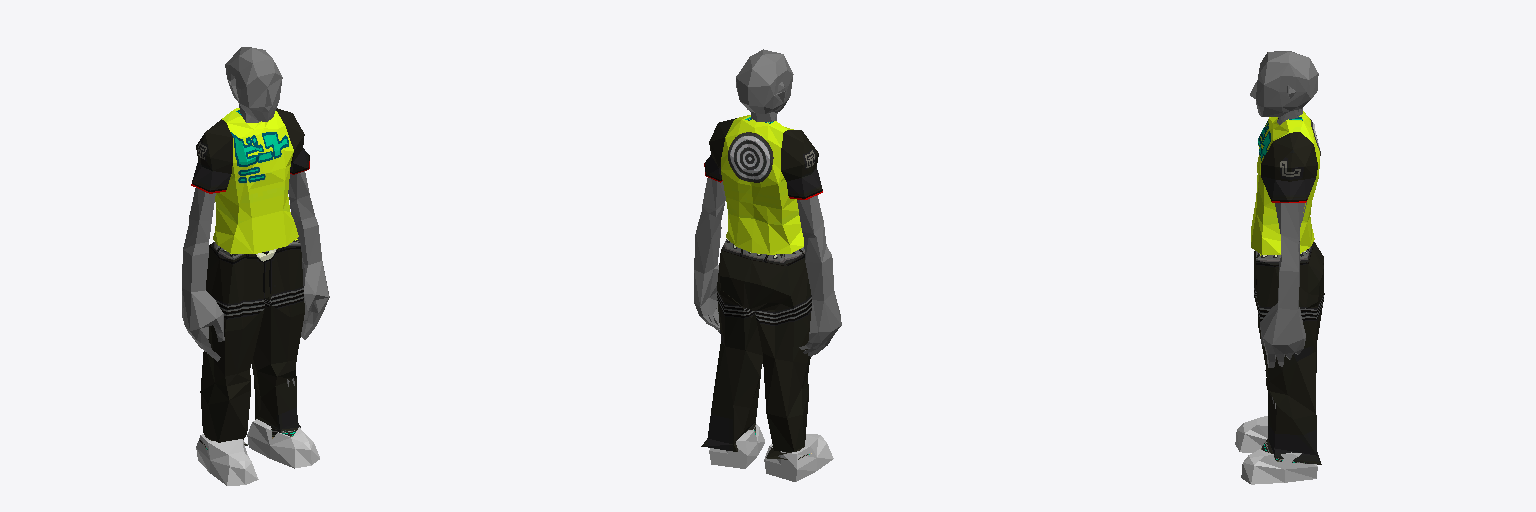
3 renders of one model, left to right at view 1: azimuth 30°, elevation 25°; view 2: azimuth 150°, elevation 25°; view 3: azimuth 270°, elevation 25°, orthographic.
Parts seen in each view (by area): view 1: Jeans, Shirt, Body, Head, Sneakers, Sneakers.001; view 2: Jeans, Shirt, Body, Head, Sneakers, Sneakers.001; view 3: Jeans, Shirt, Body, Head, Sneakers.001, Sneakers.
Part boxes in pixels (x1,y1,x2,y2): Jeans: (199,239,304,449); Shirt: (191,108,309,253); Body: (182,104,329,386); Head: (225,47,282,121); Sneakers: (196,434,258,485); Sneakers.001: (247,419,319,468); Jeans: (701,239,811,459); Shirt: (704,115,822,254); Body: (694,111,841,356); Head: (736,49,793,113); Sneakers: (764,434,833,481); Sneakers.001: (709,424,764,468); Jeans: (1254,242,1324,464); Shirt: (1251,111,1320,254); Body: (1260,108,1306,408); Head: (1250,51,1318,116); Sneakers.001: (1241,449,1317,484); Sneakers: (1235,416,1267,452).
Size of the model in its own units: 4.77 by 13.39 by 2.65.
Materials: 3 (1 with a texture image).